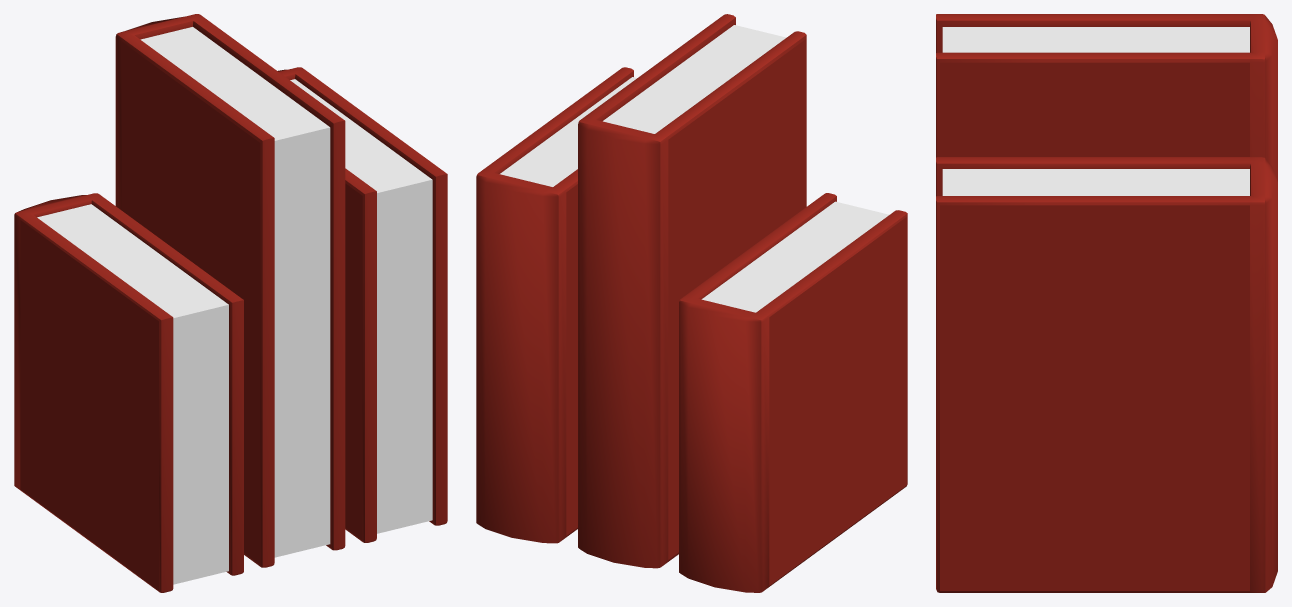
The model's file is Livros.fbx.
3 views of the same model, side by side, from view 1: azimuth 30°, elevation 25°; view 2: azimuth 150°, elevation 25°; view 3: azimuth 270°, elevation 25° (orthographic). The views are drawn at different scales.
Parts seen in each view (by area): view 1: Livro Grande, Livro Pequeno, Livro Medio; view 2: Livro Grande, Livro Pequeno, Livro Medio; view 3: Livro Medio, Livro Grande.
Boxes of the visible parts, left/top/right/bottom form: Livro Grande: left=115, top=14, right=345, bottom=567; Livro Pequeno: left=14, top=193, right=243, bottom=592; Livro Medio: left=278, top=67, right=447, bottom=542; Livro Grande: left=578, top=14, right=806, bottom=568; Livro Pequeno: left=679, top=193, right=907, bottom=592; Livro Medio: left=476, top=67, right=636, bottom=543; Livro Medio: left=936, top=157, right=1277, bottom=592; Livro Grande: left=936, top=14, right=1277, bottom=181.
Bounding box in the file's own units: 23.86 × 33.97 × 21.93.
